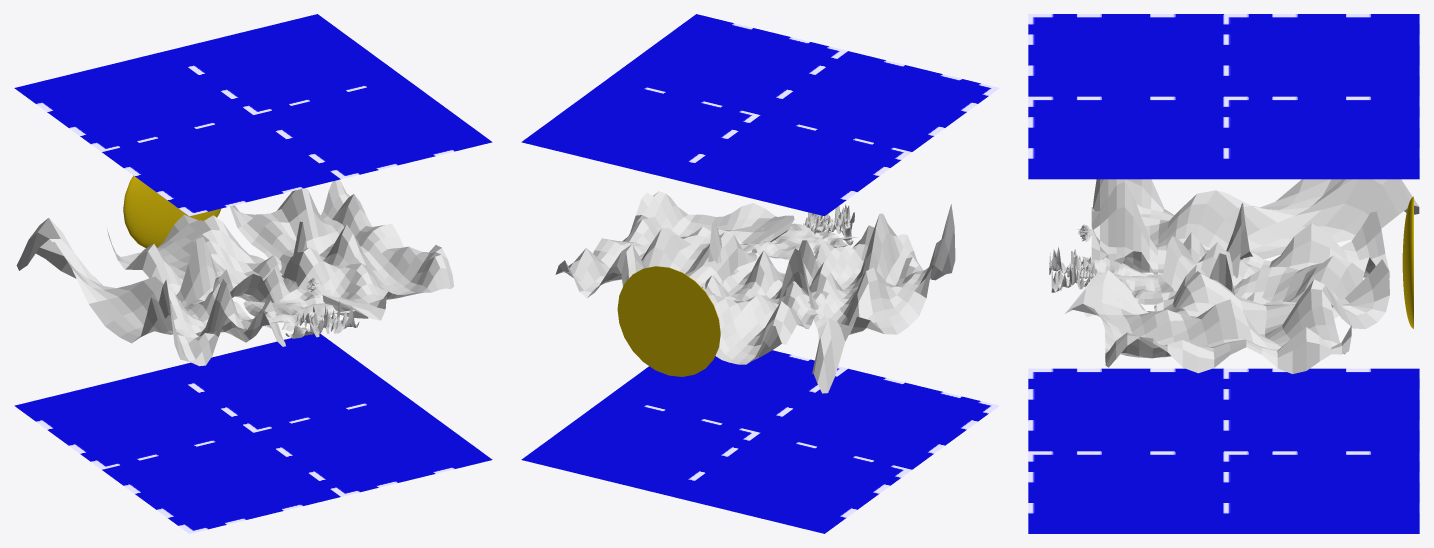
The model's file is peach.land.glb.
3 renders of one model, left to right at view 1: azimuth 30°, elevation 25°; view 2: azimuth 150°, elevation 25°; view 3: azimuth 270°, elevation 25°, orthographic. The views are drawn at different scales.
Visible parts, largest first — view 1: Grid.007, Plane, Plane.003, Plane.006, Plane.005, Plane.001, Plane.002, Plane.007, Plane.004, Grid.008, Grid.006, Sphere.002 (+1 smaller); view 2: Grid.008, Plane, Plane.003, Plane.005, Plane.002, Plane.001, Plane.004, Plane.006, Grid.007, Plane.007, Sphere.002, Grid.006 (+1 smaller); view 3: Grid.007, Grid.008, Plane, Plane.003, Plane.006, Plane.005, Plane.001, Plane.002, Plane.007, Plane.004, Grid.006, Grid.005 (+1 smaller).
Part boxes in pixels (x1,y1,x2,y2): Grid.007: [230, 180, 454, 320]; Plane: [254, 78, 492, 179]; Plane.003: [166, 14, 404, 114]; Plane.006: [102, 433, 340, 533]; Plane.005: [14, 368, 252, 469]; Plane.001: [102, 115, 340, 216]; Plane.002: [14, 51, 252, 151]; Plane.007: [254, 396, 492, 496]; Plane.004: [166, 333, 404, 432]; Grid.008: [16, 218, 285, 366]; Grid.006: [107, 215, 307, 306]; Sphere.002: [123, 175, 220, 247]; Grid.008: [779, 204, 955, 393]; Plane: [609, 14, 847, 114]; Plane.003: [521, 78, 759, 179]; Plane.005: [673, 433, 911, 533]; Plane.002: [673, 115, 911, 216]; Plane.001: [761, 51, 999, 151]; Plane.004: [521, 396, 759, 496]; Plane.006: [761, 368, 999, 469]; Grid.007: [555, 191, 794, 297]; Plane.007: [609, 350, 847, 432]; Sphere.002: [617, 266, 720, 376]; Grid.006: [701, 219, 826, 364]; Grid.007: [1065, 259, 1389, 373]; Grid.008: [1091, 179, 1419, 278]; Plane: [1028, 96, 1223, 179]; Plane.003: [1224, 96, 1419, 179]; Plane.006: [1028, 368, 1223, 451]; Plane.005: [1224, 368, 1419, 451]; Plane.001: [1028, 14, 1223, 96]; Plane.002: [1224, 14, 1419, 96]; Plane.007: [1028, 451, 1223, 533]; Plane.004: [1224, 451, 1419, 533]; Grid.006: [1154, 211, 1390, 318]; Grid.005: [1082, 256, 1173, 304].
Size of what is drawn, in the model's own units: 400 by 400 by 400.
10 materials, 1 textured.
